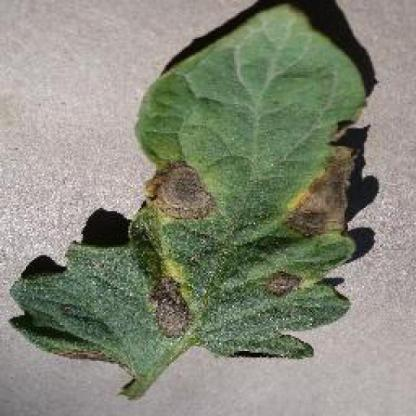Tomato_Blight: (11, 3, 362, 361)
